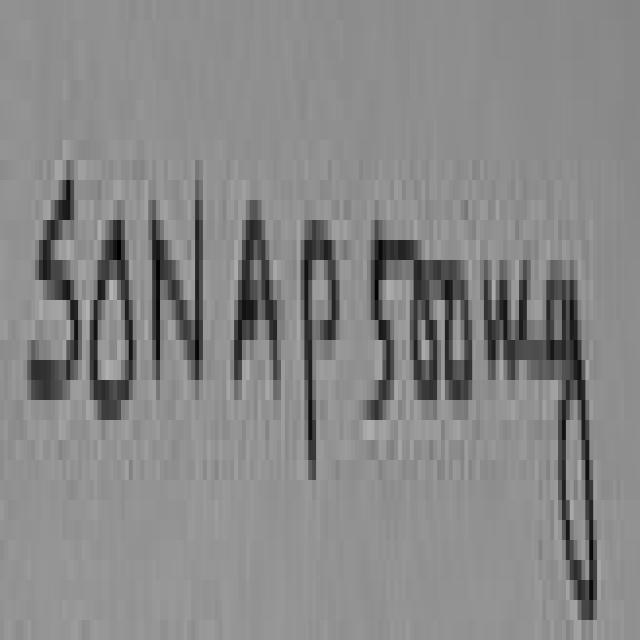0: (412, 260, 441, 430), (445, 280, 476, 400)
5: (371, 240, 416, 410)
A: (234, 200, 281, 400)
N: (152, 180, 203, 380)
O: (90, 220, 137, 420)
S: (31, 180, 78, 400)
g: (545, 244, 601, 620)
m: (488, 276, 542, 401)
p: (304, 220, 340, 480)
